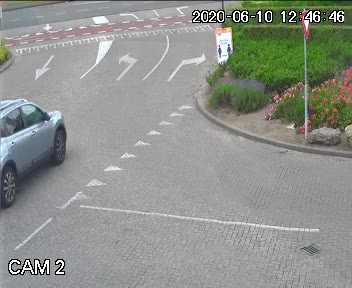car: (0, 87, 87, 187)
